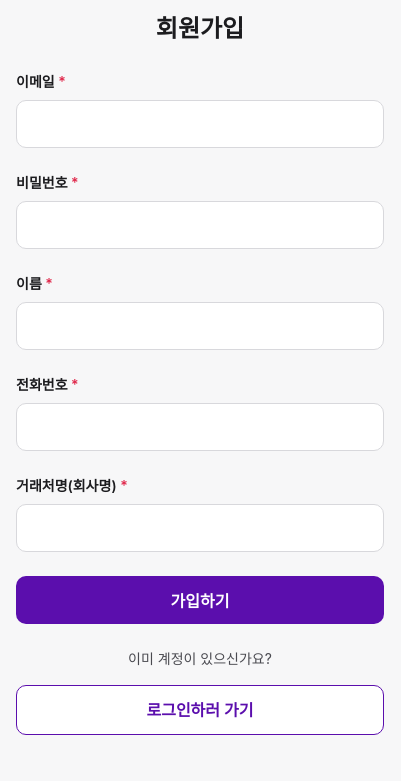
Test: signup failure (duplicate email) renders server error message and stays on SignupPage
Type "new-partner@example.com" into the field labelled "이메일 *".
click(200, 124); type("new-partner@example.com")  # box left=16, top=100, right=384, bottom=148
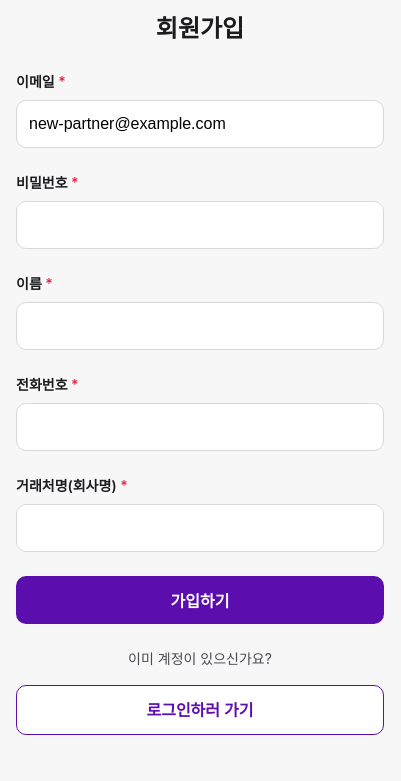
Type "pw123456" into the password field labelled "비밀번호 *".
click(200, 225); type("pw123456")  # box left=16, top=201, right=384, bottom=249
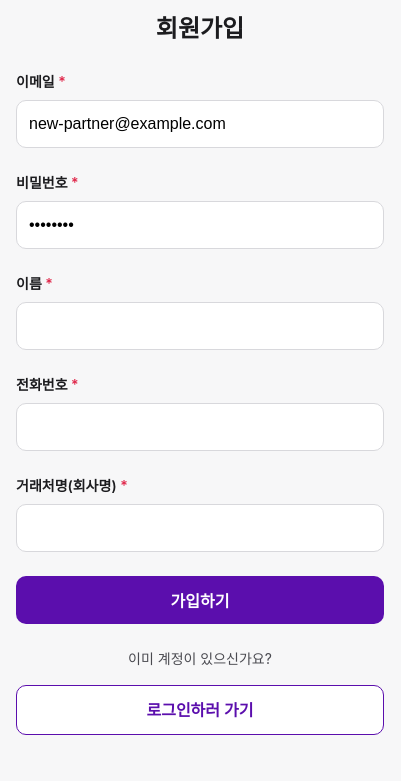
Type "홍길동" into the field labelled "이름 *".
click(200, 326); type("홍길동")  # box left=16, top=302, right=384, bottom=350
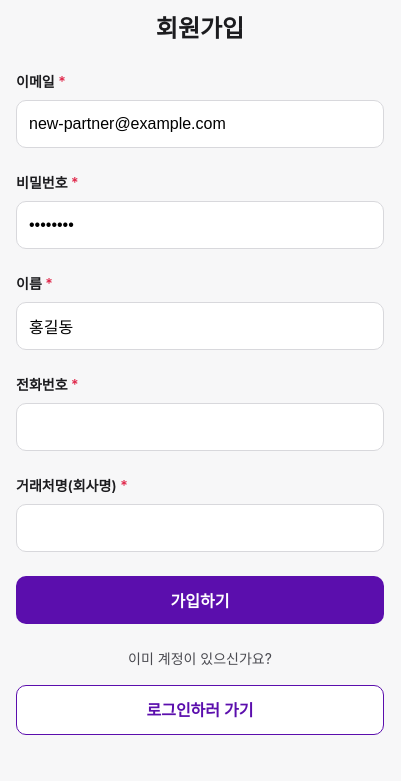
Type "010-1234-5678" into the field labelled "전화번호 *".
click(200, 427); type("010-1234-5678")  # box left=16, top=403, right=384, bottom=451
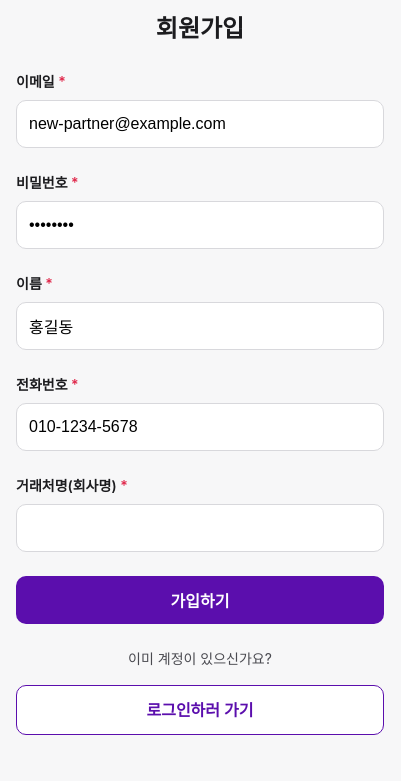
Type "OO식당" into the field labelled "거래처명(회사명) *".
click(200, 528); type("OO식당")  # box left=16, top=504, right=384, bottom=552
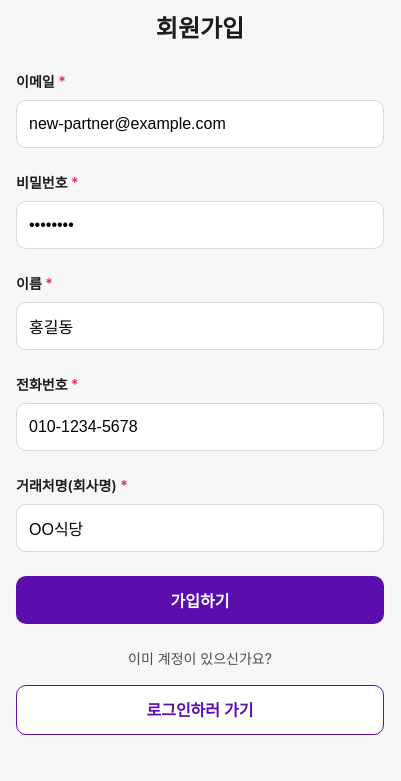
Click the button "가입하기".
click(200, 600)  # box left=16, top=576, right=384, bottom=624
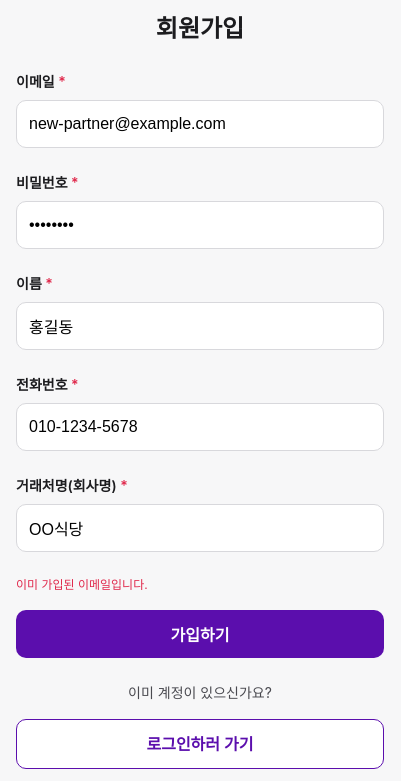
Expected: the text "이미 가입된 이메일입니다." is shown, left=16, top=577, right=148, bottom=592
